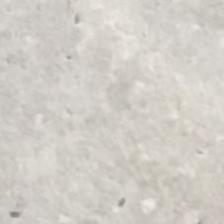Non_Crack: (18, 11, 205, 224)
